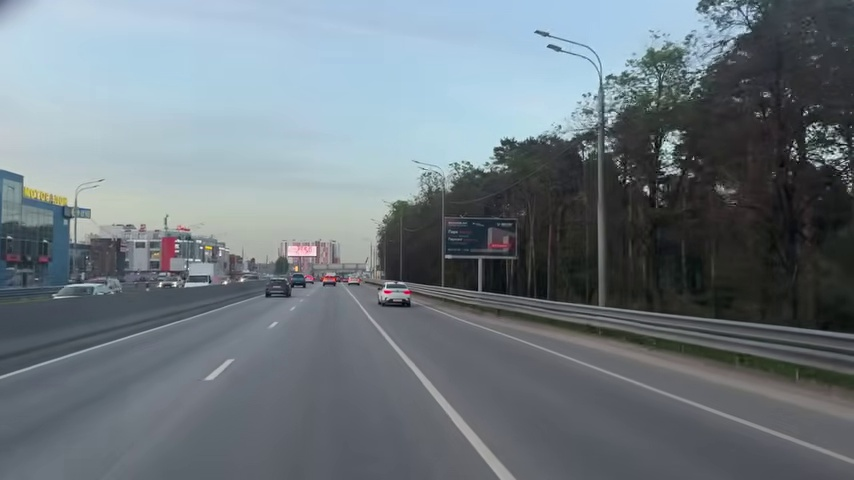apagada: (532, 27, 562, 56)
